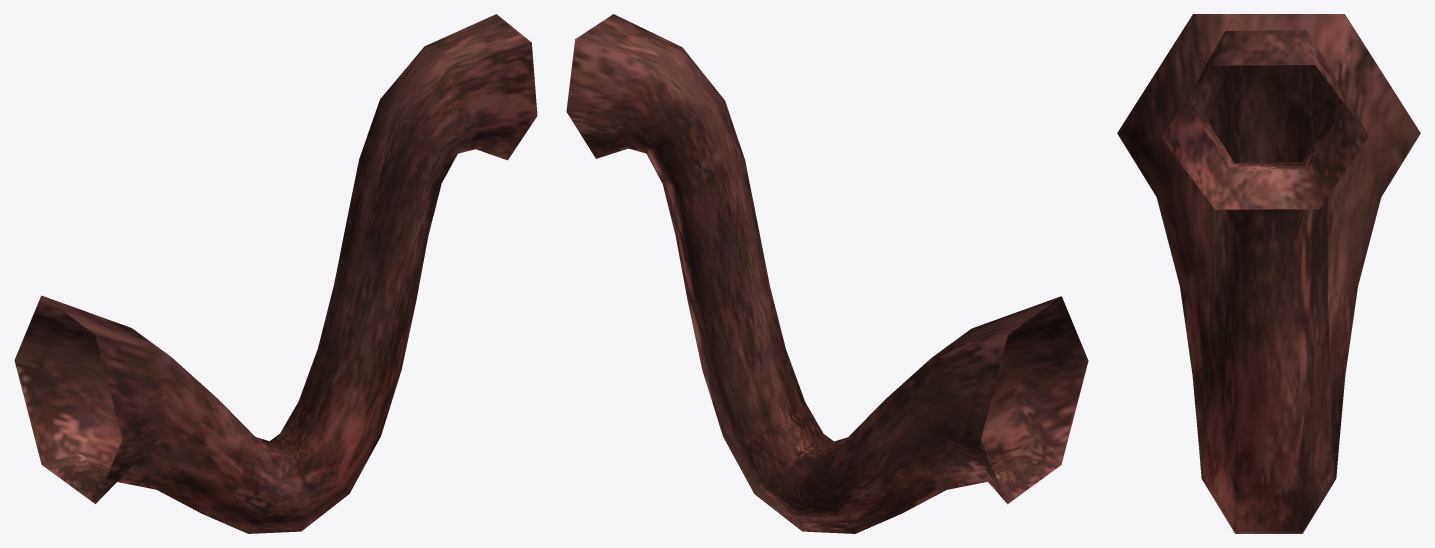
File: Intestine.glb
The picture shows the model from 3 angles, left to right: view 1: azimuth 30°, elevation 25°; view 2: azimuth 150°, elevation 25°; view 3: azimuth 270°, elevation 25°; orthographic projection. The views are drawn at different scales.
Parts seen in each view (by area): view 1: NurbsPath; view 2: NurbsPath; view 3: NurbsPath.
Part boxes in pixels (<box>): NurbsPath: <box>14,14,537,533</box>; NurbsPath: <box>566,14,1088,533</box>; NurbsPath: <box>1117,14,1420,533</box>.
Bounding box in the file's own units: 6.38 × 6.07 × 2.68.
1 material, 1 textured.
